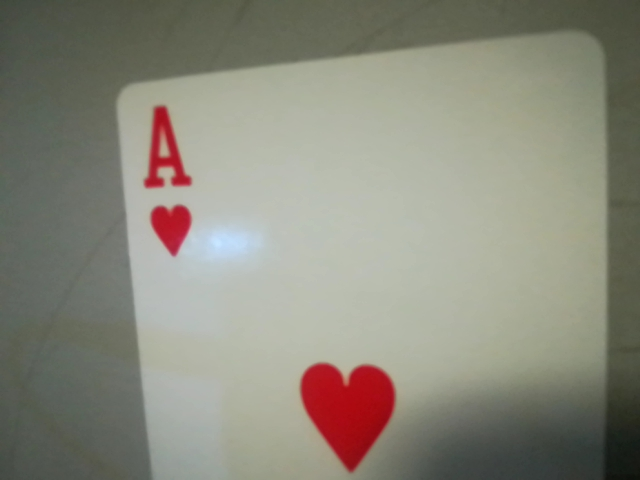hx a: (122, 91, 212, 270)
